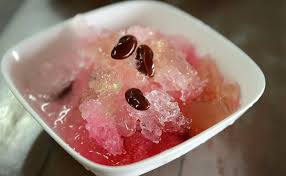O-eo: (4, 1, 274, 174)
